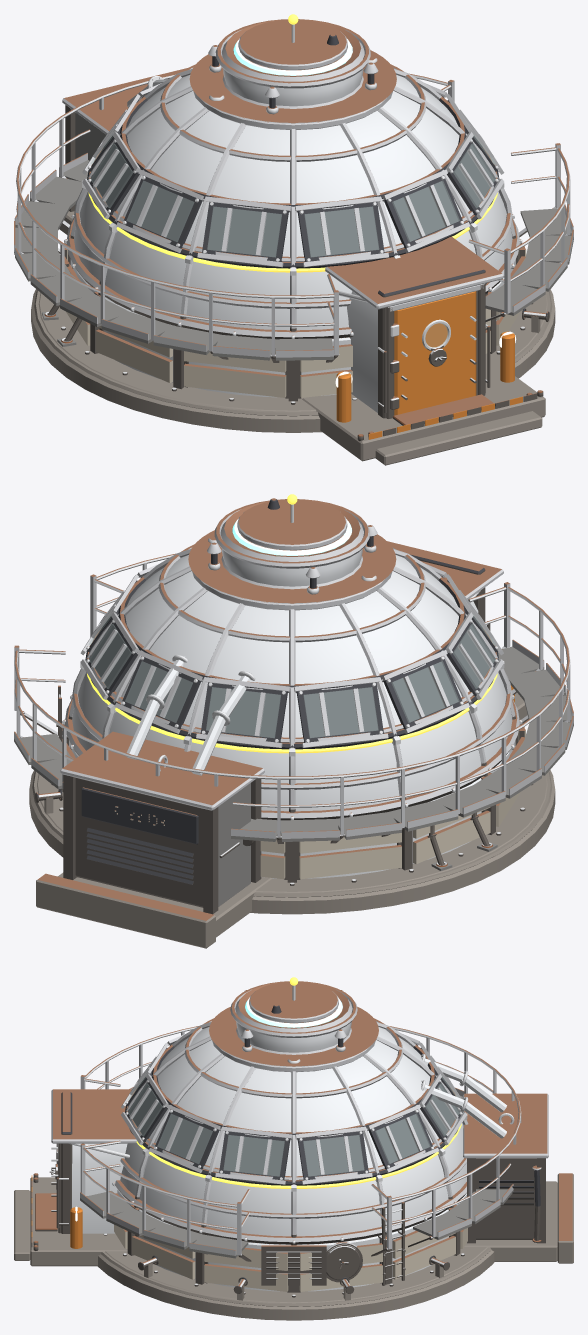
Rendered from habitat_dome.glb.
3 renders of one model, top to bottom at view 1: azimuth 30°, elevation 25°; view 2: azimuth 150°, elevation 25°; view 3: azimuth 270°, elevation 25°, orthographic. The views are drawn at different scales.
Visible parts, largest first — view 1: habitat_shell, habitat_glazing; view 2: habitat_shell, habitat_glazing; view 3: habitat_shell, habitat_glazing.
Boxes of the visible parts, x1=… form: habitat_shell: x1=14, y1=14, x2=573, y2=465; habitat_glazing: x1=90, y1=134, x2=495, y2=347; habitat_shell: x1=14, y1=494, x2=573, y2=948; habitat_glazing: x1=89, y1=614, x2=495, y2=737; habitat_shell: x1=14, y1=977, x2=573, y2=1320; habitat_glazing: x1=128, y1=1076, x2=459, y2=1176.
Size of the model in its own units: 9.06 by 5.57 by 11.2.
